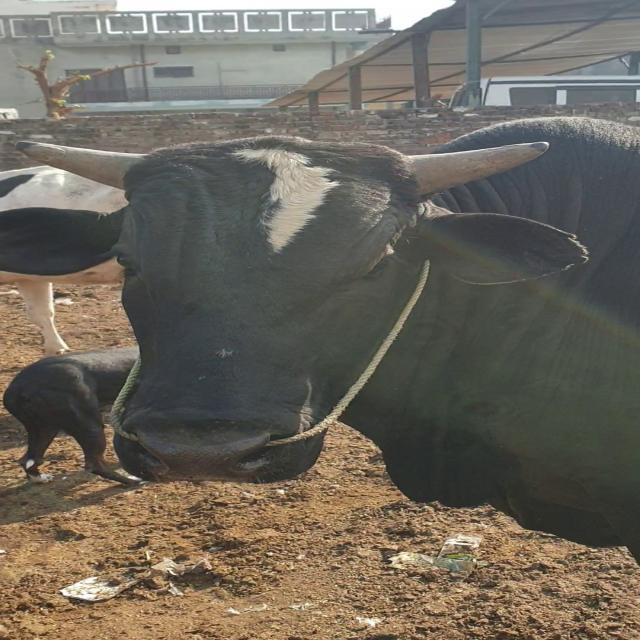cowFace: (118, 132, 402, 492)
